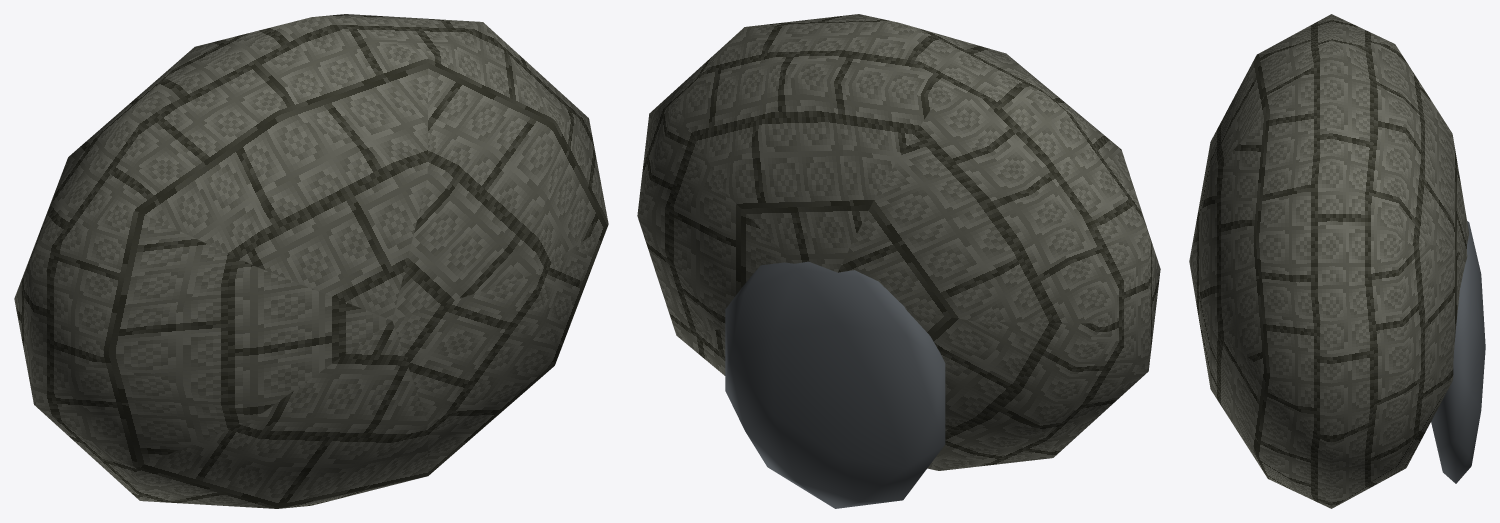
The model's file is cave_entrance.glb.
The picture shows the model from 3 angles, left to right: view 1: azimuth 30°, elevation 25°; view 2: azimuth 150°, elevation 25°; view 3: azimuth 270°, elevation 25°; orthographic projection. The views are drawn at different scales.
Parts seen in each view (by area): view 1: cave_entrance_mountain; view 2: cave_entrance_mountain, cave_entrance_dark_opening; view 3: cave_entrance_mountain, cave_entrance_dark_opening.
Boxes of the visible parts, x1,y1,x2,y2 form: cave_entrance_mountain: (14, 14, 608, 508); cave_entrance_mountain: (637, 14, 1160, 470); cave_entrance_dark_opening: (725, 261, 945, 508); cave_entrance_mountain: (1189, 14, 1469, 508); cave_entrance_dark_opening: (1431, 221, 1485, 483).
Size of the model in its own units: 4.76 by 4 by 2.5.
2 materials, 1 textured.
